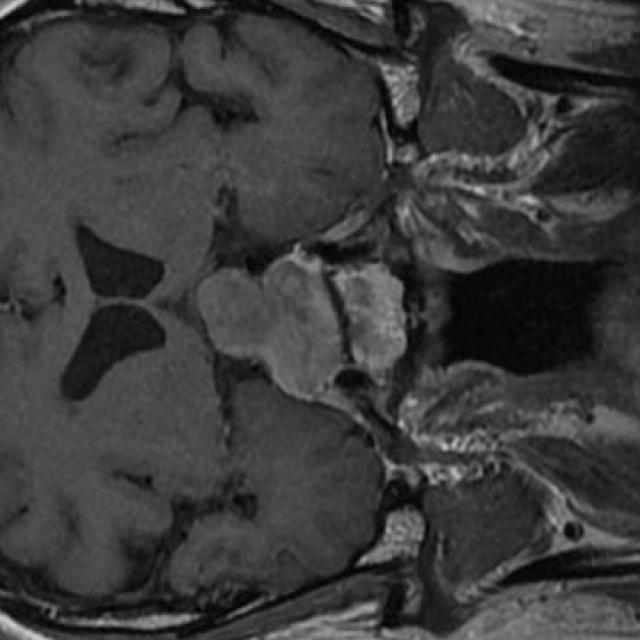pituitary: (196, 255, 342, 399)
